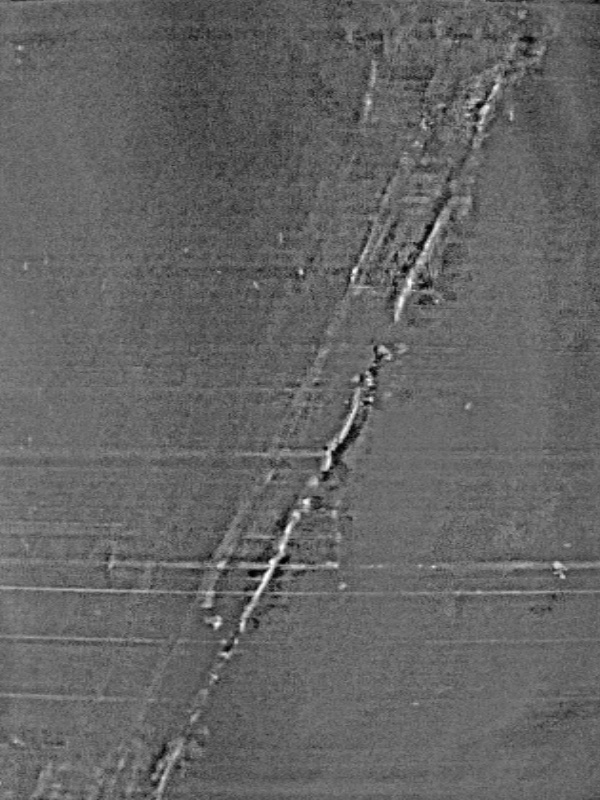splice_vulcanized: (81, 3, 546, 800)
